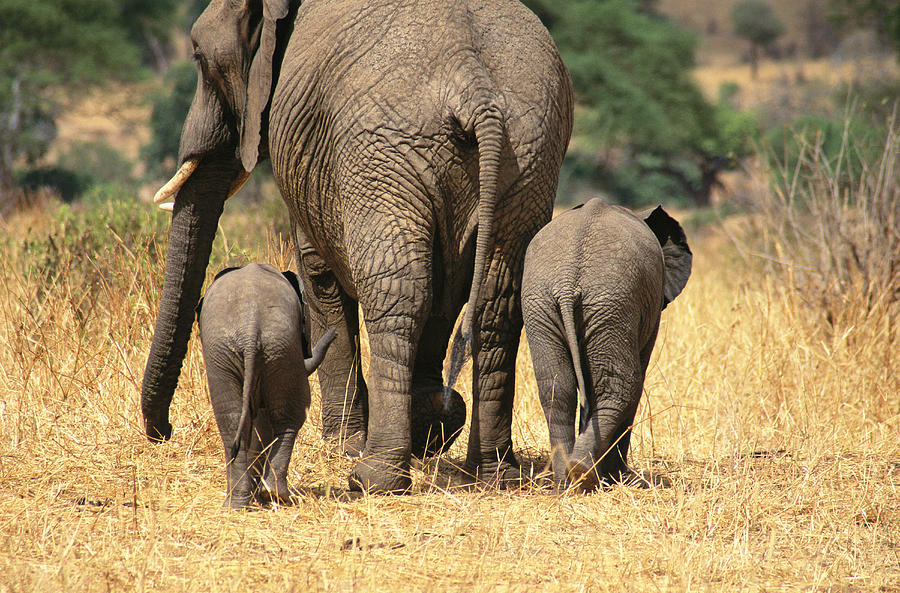elephant: (141, 1, 579, 507), (523, 202, 691, 496), (192, 257, 334, 507)
